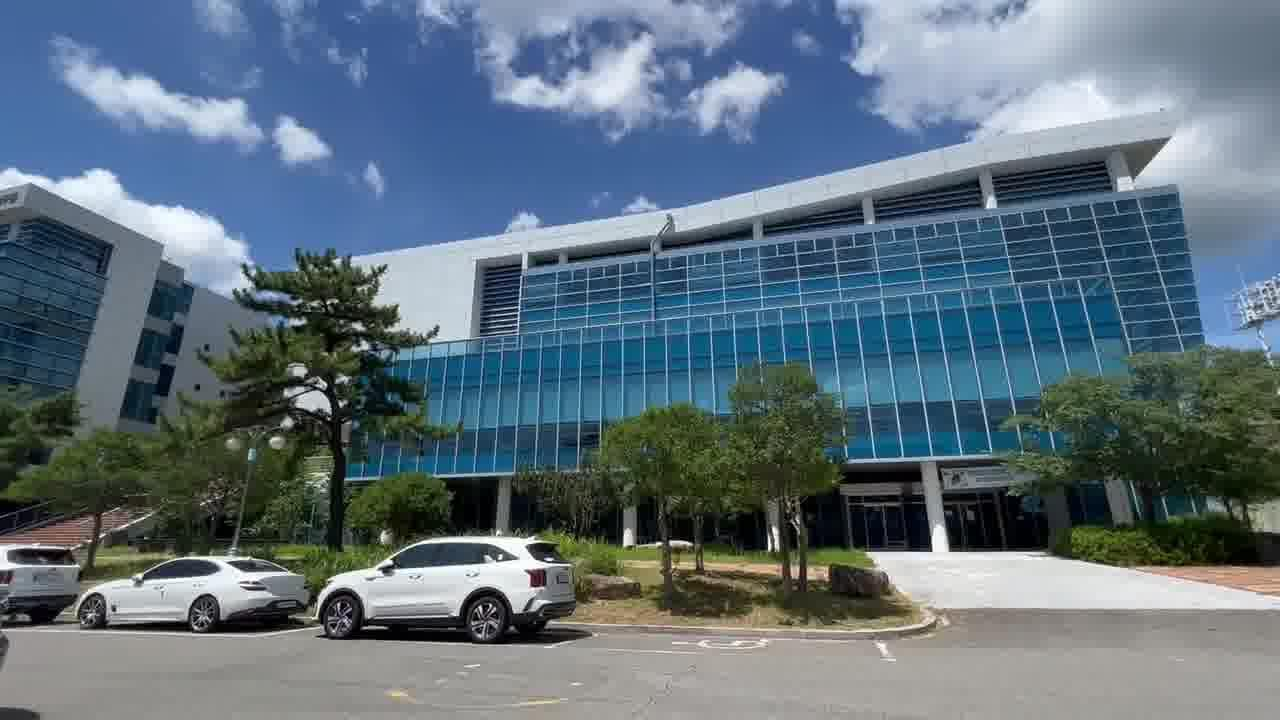building: (451, 109, 1203, 448)
